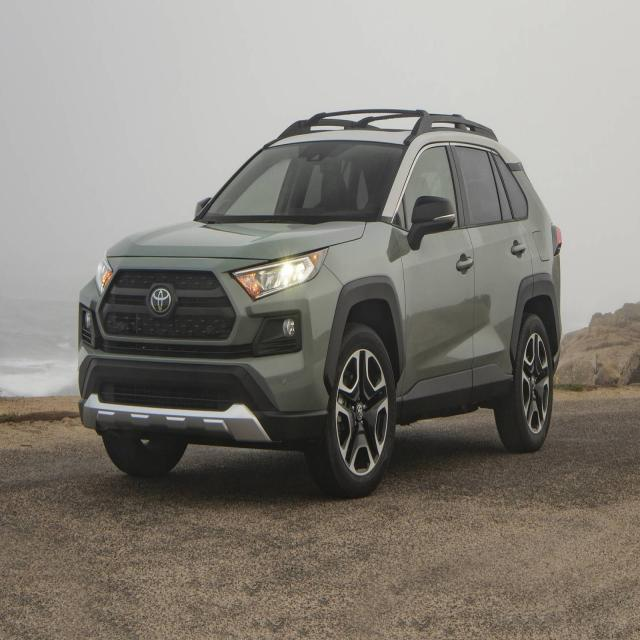light_vehicle: (76, 108, 564, 499)
